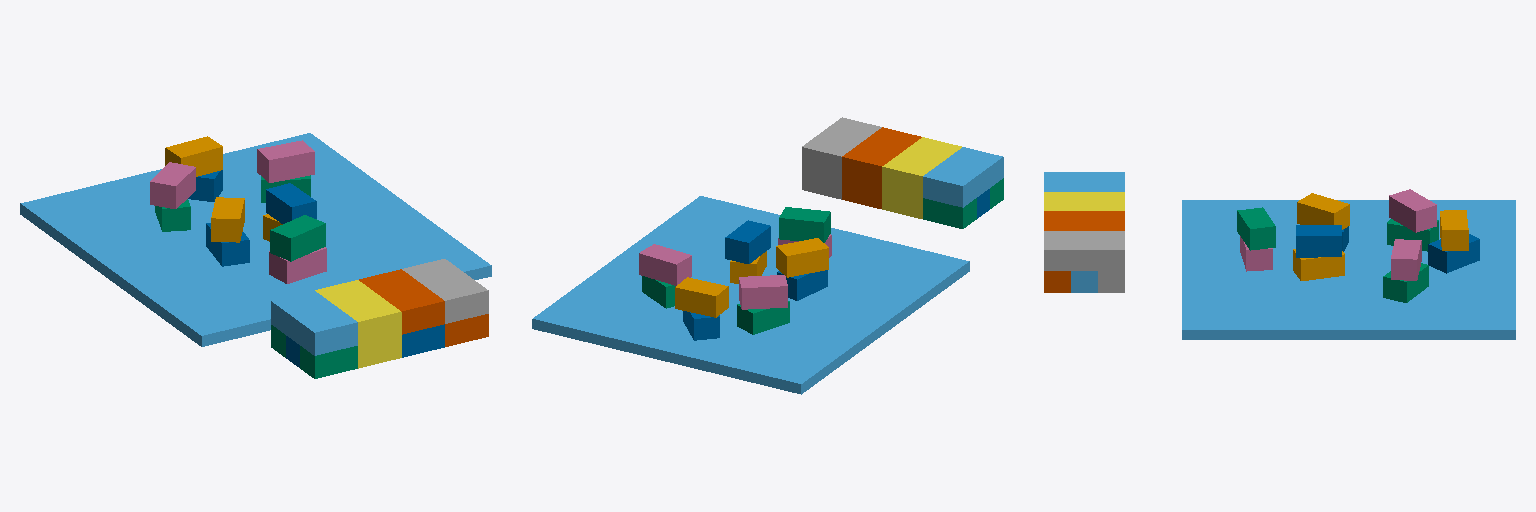
The robot description file, URDF, robot "brick_demo":
<?xml version="1.0" ?>
<!-- =================================================================================== -->
<!-- |    This document was autogenerated by xacro from brick_demo.xacro               | -->
<!-- |    EDITING THIS FILE BY HAND IS NOT RECOMMENDED                                 | -->
<!-- =================================================================================== -->
<robot name="brick_demo" xmlns:xacro="http://wiki.ros.org/xacro">
  <link name="workspace_geo_base_link"/>
  <link name="workspace_geo_pick_element_0">
    <visual>
      <geometry>
        <mesh filename="../meshes/collision/element_pick_0.obj" scale="0.001 0.001 0.001"/>
      </geometry>
    </visual>
    <collision>
      <geometry>
        <mesh filename="../meshes/collision/element_pick_0.obj" scale="0.001 0.001 0.001"/>
      </geometry>
    </collision>
  </link>
  <joint name="workspace_geo_base2pick_element_0" type="fixed">
    <parent link="workspace_geo_base_link"/>
    <child link="workspace_geo_pick_element_0"/>
    <origin rpy="0 0 0" xyz="0 0 0"/>
  </joint>
  <link name="workspace_geo_place_element_0">
    <visual>
      <geometry>
        <mesh filename="../meshes/collision/element_place_0.obj" scale="0.001 0.001 0.001"/>
      </geometry>
    </visual>
    <collision>
      <geometry>
        <mesh filename="../meshes/collision/element_place_0.obj" scale="0.001 0.001 0.001"/>
      </geometry>
    </collision>
  </link>
  <joint name="workspace_geo_base2place_element_0" type="fixed">
    <parent link="workspace_geo_base_link"/>
    <child link="workspace_geo_place_element_0"/>
    <origin rpy="0 0 0" xyz="0 0 0"/>
  </joint>
  <link name="workspace_geo_pick_element_1">
    <visual>
      <geometry>
        <mesh filename="../meshes/collision/element_pick_1.obj" scale="0.001 0.001 0.001"/>
      </geometry>
    </visual>
    <collision>
      <geometry>
        <mesh filename="../meshes/collision/element_pick_1.obj" scale="0.001 0.001 0.001"/>
      </geometry>
    </collision>
  </link>
  <joint name="workspace_geo_base2pick_element_1" type="fixed">
    <parent link="workspace_geo_base_link"/>
    <child link="workspace_geo_pick_element_1"/>
    <origin rpy="0 0 0" xyz="0 0 0"/>
  </joint>
  <link name="workspace_geo_place_element_1">
    <visual>
      <geometry>
        <mesh filename="../meshes/collision/element_place_1.obj" scale="0.001 0.001 0.001"/>
      </geometry>
    </visual>
    <collision>
      <geometry>
        <mesh filename="../meshes/collision/element_place_1.obj" scale="0.001 0.001 0.001"/>
      </geometry>
    </collision>
  </link>
  <joint name="workspace_geo_base2place_element_1" type="fixed">
    <parent link="workspace_geo_base_link"/>
    <child link="workspace_geo_place_element_1"/>
    <origin rpy="0 0 0" xyz="0 0 0"/>
  </joint>
  <link name="workspace_geo_pick_element_2">
    <visual>
      <geometry>
        <mesh filename="../meshes/collision/element_pick_2.obj" scale="0.001 0.001 0.001"/>
      </geometry>
    </visual>
    <collision>
      <geometry>
        <mesh filename="../meshes/collision/element_pick_2.obj" scale="0.001 0.001 0.001"/>
      </geometry>
    </collision>
  </link>
  <joint name="workspace_geo_base2pick_element_2" type="fixed">
    <parent link="workspace_geo_base_link"/>
    <child link="workspace_geo_pick_element_2"/>
    <origin rpy="0 0 0" xyz="0 0 0"/>
  </joint>
  <link name="workspace_geo_place_element_2">
    <visual>
      <geometry>
        <mesh filename="../meshes/collision/element_place_2.obj" scale="0.001 0.001 0.001"/>
      </geometry>
    </visual>
    <collision>
      <geometry>
        <mesh filename="../meshes/collision/element_place_2.obj" scale="0.001 0.001 0.001"/>
      </geometry>
    </collision>
  </link>
  <joint name="workspace_geo_base2place_element_2" type="fixed">
    <parent link="workspace_geo_base_link"/>
    <child link="workspace_geo_place_element_2"/>
    <origin rpy="0 0 0" xyz="0 0 0"/>
  </joint>
  <link name="workspace_geo_pick_element_3">
    <visual>
      <geometry>
        <mesh filename="../meshes/collision/element_pick_3.obj" scale="0.001 0.001 0.001"/>
      </geometry>
    </visual>
    <collision>
      <geometry>
        <mesh filename="../meshes/collision/element_pick_3.obj" scale="0.001 0.001 0.001"/>
      </geometry>
    </collision>
  </link>
  <joint name="workspace_geo_base2pick_element_3" type="fixed">
    <parent link="workspace_geo_base_link"/>
    <child link="workspace_geo_pick_element_3"/>
    <origin rpy="0 0 0" xyz="0 0 0"/>
  </joint>
  <link name="workspace_geo_place_element_3">
    <visual>
      <geometry>
        <mesh filename="../meshes/collision/element_place_3.obj" scale="0.001 0.001 0.001"/>
      </geometry>
    </visual>
    <collision>
      <geometry>
        <mesh filename="../meshes/collision/element_place_3.obj" scale="0.001 0.001 0.001"/>
      </geometry>
    </collision>
  </link>
  <joint name="workspace_geo_base2place_element_3" type="fixed">
    <parent link="workspace_geo_base_link"/>
    <child link="workspace_geo_place_element_3"/>
    <origin rpy="0 0 0" xyz="0 0 0"/>
  </joint>
  <link name="workspace_geo_pick_element_4">
    <visual>
      <geometry>
        <mesh filename="../meshes/collision/element_pick_4.obj" scale="0.001 0.001 0.001"/>
      </geometry>
    </visual>
    <collision>
      <geometry>
        <mesh filename="../meshes/collision/element_pick_4.obj" scale="0.001 0.001 0.001"/>
      </geometry>
    </collision>
  </link>
  <joint name="workspace_geo_base2pick_element_4" type="fixed">
    <parent link="workspace_geo_base_link"/>
    <child link="workspace_geo_pick_element_4"/>
    <origin rpy="0 0 0" xyz="0 0 0"/>
  </joint>
  <link name="workspace_geo_place_element_4">
    <visual>
      <geometry>
        <mesh filename="../meshes/collision/element_place_4.obj" scale="0.001 0.001 0.001"/>
      </geometry>
    </visual>
    <collision>
      <geometry>
        <mesh filename="../meshes/collision/element_place_4.obj" scale="0.001 0.001 0.001"/>
      </geometry>
    </collision>
  </link>
  <joint name="workspace_geo_base2place_element_4" type="fixed">
    <parent link="workspace_geo_base_link"/>
    <child link="workspace_geo_place_element_4"/>
    <origin rpy="0 0 0" xyz="0 0 0"/>
  </joint>
  <link name="workspace_geo_pick_element_5">
    <visual>
      <geometry>
        <mesh filename="../meshes/collision/element_pick_5.obj" scale="0.001 0.001 0.001"/>
      </geometry>
    </visual>
    <collision>
      <geometry>
        <mesh filename="../meshes/collision/element_pick_5.obj" scale="0.001 0.001 0.001"/>
      </geometry>
    </collision>
  </link>
  <joint name="workspace_geo_base2pick_element_5" type="fixed">
    <parent link="workspace_geo_base_link"/>
    <child link="workspace_geo_pick_element_5"/>
    <origin rpy="0 0 0" xyz="0 0 0"/>
  </joint>
  <link name="workspace_geo_place_element_5">
    <visual>
      <geometry>
        <mesh filename="../meshes/collision/element_place_5.obj" scale="0.001 0.001 0.001"/>
      </geometry>
    </visual>
    <collision>
      <geometry>
        <mesh filename="../meshes/collision/element_place_5.obj" scale="0.001 0.001 0.001"/>
      </geometry>
    </collision>
  </link>
  <joint name="workspace_geo_base2place_element_5" type="fixed">
    <parent link="workspace_geo_base_link"/>
    <child link="workspace_geo_place_element_5"/>
    <origin rpy="0 0 0" xyz="0 0 0"/>
  </joint>
  <link name="workspace_geo_pick_element_6">
    <visual>
      <geometry>
        <mesh filename="../meshes/collision/element_pick_6.obj" scale="0.001 0.001 0.001"/>
      </geometry>
    </visual>
    <collision>
      <geometry>
        <mesh filename="../meshes/collision/element_pick_6.obj" scale="0.001 0.001 0.001"/>
      </geometry>
    </collision>
  </link>
  <joint name="workspace_geo_base2pick_element_6" type="fixed">
    <parent link="workspace_geo_base_link"/>
    <child link="workspace_geo_pick_element_6"/>
    <origin rpy="0 0 0" xyz="0 0 0"/>
  </joint>
  <link name="workspace_geo_place_element_6">
    <visual>
      <geometry>
        <mesh filename="../meshes/collision/element_place_6.obj" scale="0.001 0.001 0.001"/>
      </geometry>
    </visual>
    <collision>
      <geometry>
        <mesh filename="../meshes/collision/element_place_6.obj" scale="0.001 0.001 0.001"/>
      </geometry>
    </collision>
  </link>
  <joint name="workspace_geo_base2place_element_6" type="fixed">
    <parent link="workspace_geo_base_link"/>
    <child link="workspace_geo_place_element_6"/>
    <origin rpy="0 0 0" xyz="0 0 0"/>
  </joint>
  <link name="workspace_geo_pick_element_7">
    <visual>
      <geometry>
        <mesh filename="../meshes/collision/element_pick_7.obj" scale="0.001 0.001 0.001"/>
      </geometry>
    </visual>
    <collision>
      <geometry>
        <mesh filename="../meshes/collision/element_pick_7.obj" scale="0.001 0.001 0.001"/>
      </geometry>
    </collision>
  </link>
  <joint name="workspace_geo_base2pick_element_7" type="fixed">
    <parent link="workspace_geo_base_link"/>
    <child link="workspace_geo_pick_element_7"/>
    <origin rpy="0 0 0" xyz="0 0 0"/>
  </joint>
  <link name="workspace_geo_place_element_7">
    <visual>
      <geometry>
        <mesh filename="../meshes/collision/element_place_7.obj" scale="0.001 0.001 0.001"/>
      </geometry>
    </visual>
    <collision>
      <geometry>
        <mesh filename="../meshes/collision/element_place_7.obj" scale="0.001 0.001 0.001"/>
      </geometry>
    </collision>
  </link>
  <joint name="workspace_geo_base2place_element_7" type="fixed">
    <parent link="workspace_geo_base_link"/>
    <child link="workspace_geo_place_element_7"/>
    <origin rpy="0 0 0" xyz="0 0 0"/>
  </joint>
  <link name="workspace_geo_pick_element_8">
    <visual>
      <geometry>
        <mesh filename="../meshes/collision/element_pick_8.obj" scale="0.001 0.001 0.001"/>
      </geometry>
    </visual>
    <collision>
      <geometry>
        <mesh filename="../meshes/collision/element_pick_8.obj" scale="0.001 0.001 0.001"/>
      </geometry>
    </collision>
  </link>
  <joint name="workspace_geo_base2pick_element_8" type="fixed">
    <parent link="workspace_geo_base_link"/>
    <child link="workspace_geo_pick_element_8"/>
    <origin rpy="0 0 0" xyz="0 0 0"/>
  </joint>
  <link name="workspace_geo_place_element_8">
    <visual>
      <geometry>
        <mesh filename="../meshes/collision/element_place_8.obj" scale="0.001 0.001 0.001"/>
      </geometry>
    </visual>
    <collision>
      <geometry>
        <mesh filename="../meshes/collision/element_place_8.obj" scale="0.001 0.001 0.001"/>
      </geometry>
    </collision>
  </link>
  <joint name="workspace_geo_base2place_element_8" type="fixed">
    <parent link="workspace_geo_base_link"/>
    <child link="workspace_geo_place_element_8"/>
    <origin rpy="0 0 0" xyz="0 0 0"/>
  </joint>
  <link name="workspace_geo_pick_element_9">
    <visual>
      <geometry>
        <mesh filename="../meshes/collision/element_pick_9.obj" scale="0.001 0.001 0.001"/>
      </geometry>
    </visual>
    <collision>
      <geometry>
        <mesh filename="../meshes/collision/element_pick_9.obj" scale="0.001 0.001 0.001"/>
      </geometry>
    </collision>
  </link>
  <joint name="workspace_geo_base2pick_element_9" type="fixed">
    <parent link="workspace_geo_base_link"/>
    <child link="workspace_geo_pick_element_9"/>
    <origin rpy="0 0 0" xyz="0 0 0"/>
  </joint>
  <link name="workspace_geo_place_element_9">
    <visual>
      <geometry>
        <mesh filename="../meshes/collision/element_place_9.obj" scale="0.001 0.001 0.001"/>
      </geometry>
    </visual>
    <collision>
      <geometry>
        <mesh filename="../meshes/collision/element_place_9.obj" scale="0.001 0.001 0.001"/>
      </geometry>
    </collision>
  </link>
  <joint name="workspace_geo_base2place_element_9" type="fixed">
    <parent link="workspace_geo_base_link"/>
    <child link="workspace_geo_place_element_9"/>
    <origin rpy="0 0 0" xyz="0 0 0"/>
  </joint>
  <link name="workspace_geo_pick_element_10">
    <visual>
      <geometry>
        <mesh filename="../meshes/collision/element_pick_10.obj" scale="0.001 0.001 0.001"/>
      </geometry>
    </visual>
    <collision>
      <geometry>
        <mesh filename="../meshes/collision/element_pick_10.obj" scale="0.001 0.001 0.001"/>
      </geometry>
    </collision>
  </link>
  <joint name="workspace_geo_base2pick_element_10" type="fixed">
    <parent link="workspace_geo_base_link"/>
    <child link="workspace_geo_pick_element_10"/>
    <origin rpy="0 0 0" xyz="0 0 0"/>
  </joint>
  <link name="workspace_geo_place_element_10">
    <visual>
      <geometry>
        <mesh filename="../meshes/collision/element_place_10.obj" scale="0.001 0.001 0.001"/>
      </geometry>
    </visual>
    <collision>
      <geometry>
        <mesh filename="../meshes/collision/element_place_10.obj" scale="0.001 0.001 0.001"/>
      </geometry>
    </collision>
  </link>
  <joint name="workspace_geo_base2place_element_10" type="fixed">
    <parent link="workspace_geo_base_link"/>
    <child link="workspace_geo_place_element_10"/>
    <origin rpy="0 0 0" xyz="0 0 0"/>
  </joint>
  <link name="workspace_geo_pick_element_11">
    <visual>
      <geometry>
        <mesh filename="../meshes/collision/element_pick_11.obj" scale="0.001 0.001 0.001"/>
      </geometry>
    </visual>
    <collision>
      <geometry>
        <mesh filename="../meshes/collision/element_pick_11.obj" scale="0.001 0.001 0.001"/>
      </geometry>
    </collision>
  </link>
  <joint name="workspace_geo_base2pick_element_11" type="fixed">
    <parent link="workspace_geo_base_link"/>
    <child link="workspace_geo_pick_element_11"/>
    <origin rpy="0 0 0" xyz="0 0 0"/>
  </joint>
  <link name="workspace_geo_place_element_11">
    <visual>
      <geometry>
        <mesh filename="../meshes/collision/element_place_11.obj" scale="0.001 0.001 0.001"/>
      </geometry>
    </visual>
    <collision>
      <geometry>
        <mesh filename="../meshes/collision/element_place_11.obj" scale="0.001 0.001 0.001"/>
      </geometry>
    </collision>
  </link>
  <joint name="workspace_geo_base2place_element_11" type="fixed">
    <parent link="workspace_geo_base_link"/>
    <child link="workspace_geo_place_element_11"/>
    <origin rpy="0 0 0" xyz="0 0 0"/>
  </joint>
  <link name="workspace_geo_pick_support_object_0">
    <visual>
      <geometry>
        <mesh filename="../meshes/collision/support_place_table.obj" scale="0.001 0.001 0.001"/>
      </geometry>
    </visual>
    <collision>
      <geometry>
        <mesh filename="../meshes/collision/support_place_table.obj" scale="0.001 0.001 0.001"/>
      </geometry>
    </collision>
  </link>
  <joint name="workspace_geo_base2pick_support_object_0" type="fixed">
    <parent link="workspace_geo_base_link"/>
    <child link="workspace_geo_pick_support_object_0"/>
    <origin rpy="0 0 0" xyz="0 0 0"/>
  </joint>
  <link name="workspace_geo_place_support_object_0">
    <visual>
      <geometry>
        <mesh filename="../meshes/collision/pick_left_over_bricks_0.obj" scale="0.001 0.001 0.001"/>
      </geometry>
    </visual>
    <collision>
      <geometry>
        <mesh filename="../meshes/collision/pick_left_over_bricks_0.obj" scale="0.001 0.001 0.001"/>
      </geometry>
    </collision>
  </link>
  <joint name="workspace_geo_base2place_support_object_0" type="fixed">
    <parent link="workspace_geo_base_link"/>
    <child link="workspace_geo_place_support_object_0"/>
    <origin rpy="0 0 0" xyz="0 0 0"/>
  </joint>
  <link name="workspace_geo_place_support_object_1">
    <visual>
      <geometry>
        <mesh filename="../meshes/collision/pick_left_over_bricks_1.obj" scale="0.001 0.001 0.001"/>
      </geometry>
    </visual>
    <collision>
      <geometry>
        <mesh filename="../meshes/collision/pick_left_over_bricks_1.obj" scale="0.001 0.001 0.001"/>
      </geometry>
    </collision>
  </link>
  <joint name="workspace_geo_base2place_support_object_1" type="fixed">
    <parent link="workspace_geo_base_link"/>
    <child link="workspace_geo_place_support_object_1"/>
    <origin rpy="0 0 0" xyz="0 0 0"/>
  </joint>
  <link name="workspace_geo_place_support_object_2">
    <visual>
      <geometry>
        <mesh filename="../meshes/collision/pick_left_over_bricks_4.obj" scale="0.001 0.001 0.001"/>
      </geometry>
    </visual>
    <collision>
      <geometry>
        <mesh filename="../meshes/collision/pick_left_over_bricks_4.obj" scale="0.001 0.001 0.001"/>
      </geometry>
    </collision>
  </link>
  <joint name="workspace_geo_base2place_support_object_2" type="fixed">
    <parent link="workspace_geo_base_link"/>
    <child link="workspace_geo_place_support_object_2"/>
    <origin rpy="0 0 0" xyz="0 0 0"/>
  </joint>
  <link name="workspace_geo_place_support_object_3">
    <visual>
      <geometry>
        <mesh filename="../meshes/collision/pick_left_over_bricks_2.obj" scale="0.001 0.001 0.001"/>
      </geometry>
    </visual>
    <collision>
      <geometry>
        <mesh filename="../meshes/collision/pick_left_over_bricks_2.obj" scale="0.001 0.001 0.001"/>
      </geometry>
    </collision>
  </link>
  <joint name="workspace_geo_base2place_support_object_3" type="fixed">
    <parent link="workspace_geo_base_link"/>
    <child link="workspace_geo_place_support_object_3"/>
    <origin rpy="0 0 0" xyz="0 0 0"/>
  </joint>
  <link name="workspace_geo_place_support_object_4">
    <visual>
      <geometry>
        <mesh filename="../meshes/collision/pick_left_over_bricks_5.obj" scale="0.001 0.001 0.001"/>
      </geometry>
    </visual>
    <collision>
      <geometry>
        <mesh filename="../meshes/collision/pick_left_over_bricks_5.obj" scale="0.001 0.001 0.001"/>
      </geometry>
    </collision>
  </link>
  <joint name="workspace_geo_base2place_support_object_4" type="fixed">
    <parent link="workspace_geo_base_link"/>
    <child link="workspace_geo_place_support_object_4"/>
    <origin rpy="0 0 0" xyz="0 0 0"/>
  </joint>
  <link name="workspace_geo_place_support_object_5">
    <visual>
      <geometry>
        <mesh filename="../meshes/collision/pick_left_over_bricks_3.obj" scale="0.001 0.001 0.001"/>
      </geometry>
    </visual>
    <collision>
      <geometry>
        <mesh filename="../meshes/collision/pick_left_over_bricks_3.obj" scale="0.001 0.001 0.001"/>
      </geometry>
    </collision>
  </link>
  <joint name="workspace_geo_base2place_support_object_5" type="fixed">
    <parent link="workspace_geo_base_link"/>
    <child link="workspace_geo_place_support_object_5"/>
    <origin rpy="0 0 0" xyz="0 0 0"/>
  </joint>
  <link name="workspace_geo_place_support_object_6">
    <visual>
      <geometry>
        <mesh filename="../meshes/collision/pick_left_over_bricks_6.obj" scale="0.001 0.001 0.001"/>
      </geometry>
    </visual>
    <collision>
      <geometry>
        <mesh filename="../meshes/collision/pick_left_over_bricks_6.obj" scale="0.001 0.001 0.001"/>
      </geometry>
    </collision>
  </link>
  <joint name="workspace_geo_base2place_support_object_6" type="fixed">
    <parent link="workspace_geo_base_link"/>
    <child link="workspace_geo_place_support_object_6"/>
    <origin rpy="0 0 0" xyz="0 0 0"/>
  </joint>
  <link name="workspace_geo_place_support_object_7">
    <visual>
      <geometry>
        <mesh filename="../meshes/collision/pick_left_over_bricks_7.obj" scale="0.001 0.001 0.001"/>
      </geometry>
    </visual>
    <collision>
      <geometry>
        <mesh filename="../meshes/collision/pick_left_over_bricks_7.obj" scale="0.001 0.001 0.001"/>
      </geometry>
    </collision>
  </link>
  <joint name="workspace_geo_base2place_support_object_7" type="fixed">
    <parent link="workspace_geo_base_link"/>
    <child link="workspace_geo_place_support_object_7"/>
    <origin rpy="0 0 0" xyz="0 0 0"/>
  </joint>
  <link name="workspace_geo_place_support_object_8">
    <visual>
      <geometry>
        <mesh filename="../meshes/collision/pick_left_over_bricks_8.obj" scale="0.001 0.001 0.001"/>
      </geometry>
    </visual>
    <collision>
      <geometry>
        <mesh filename="../meshes/collision/pick_left_over_bricks_8.obj" scale="0.001 0.001 0.001"/>
      </geometry>
    </collision>
  </link>
  <joint name="workspace_geo_base2place_support_object_8" type="fixed">
    <parent link="workspace_geo_base_link"/>
    <child link="workspace_geo_place_support_object_8"/>
    <origin rpy="0 0 0" xyz="0 0 0"/>
  </joint>
  <link name="workspace_geo_place_support_object_9">
    <visual>
      <geometry>
        <mesh filename="../meshes/collision/pick_left_over_bricks_9.obj" scale="0.001 0.001 0.001"/>
      </geometry>
    </visual>
    <collision>
      <geometry>
        <mesh filename="../meshes/collision/pick_left_over_bricks_9.obj" scale="0.001 0.001 0.001"/>
      </geometry>
    </collision>
  </link>
  <joint name="workspace_geo_base2place_support_object_9" type="fixed">
    <parent link="workspace_geo_base_link"/>
    <child link="workspace_geo_place_support_object_9"/>
    <origin rpy="0 0 0" xyz="0 0 0"/>
  </joint>
  <link name="workspace_geo_place_support_object_10">
    <visual>
      <geometry>
        <mesh filename="../meshes/collision/pick_left_over_bricks_10.obj" scale="0.001 0.001 0.001"/>
      </geometry>
    </visual>
    <collision>
      <geometry>
        <mesh filename="../meshes/collision/pick_left_over_bricks_10.obj" scale="0.001 0.001 0.001"/>
      </geometry>
    </collision>
  </link>
  <joint name="workspace_geo_base2place_support_object_10" type="fixed">
    <parent link="workspace_geo_base_link"/>
    <child link="workspace_geo_place_support_object_10"/>
    <origin rpy="0 0 0" xyz="0 0 0"/>
  </joint>
  <link name="workspace_geo_place_support_object_11">
    <visual>
      <geometry>
        <mesh filename="../meshes/collision/pick_left_over_bricks_11.obj" scale="0.001 0.001 0.001"/>
      </geometry>
    </visual>
    <collision>
      <geometry>
        <mesh filename="../meshes/collision/pick_left_over_bricks_11.obj" scale="0.001 0.001 0.001"/>
      </geometry>
    </collision>
  </link>
  <joint name="workspace_geo_base2place_support_object_11" type="fixed">
    <parent link="workspace_geo_base_link"/>
    <child link="workspace_geo_place_support_object_11"/>
    <origin rpy="0 0 0" xyz="0 0 0"/>
  </joint>
  <link name="base_link"/>
  <joint name="world2workspace_geo" type="fixed">
    <parent link="base_link"/>
    <child link="workspace_geo_base_link"/>
    <origin rpy="0 0 0" xyz="0 0 0"/>
  </joint>
</robot>

--- What the picture shows (computed from the rendered views, not written in the file) ---
The picture shows the robot from 3 angles, left to right: view 1: azimuth 30°, elevation 25°; view 2: azimuth 150°, elevation 25°; view 3: azimuth 270°, elevation 25°; orthographic projection.
Robot: brick_demo — 39 links, 38 joints (38 fixed); root link base_link; default pose: all joints at 0.
Links seen in each view (by area): view 1: workspace_geo_pick_support_object_0, workspace_geo_pick_element_8, workspace_geo_place_element_10, workspace_geo_place_element_8, workspace_geo_place_element_6, workspace_geo_pick_element_11, workspace_geo_pick_element_9, workspace_geo_pick_element_10, workspace_geo_place_element_11, workspace_geo_place_element_9, workspace_geo_place_element_7, workspace_geo_place_element_2 (+15 smaller); view 2: workspace_geo_pick_support_object_0, workspace_geo_place_element_11, workspace_geo_pick_element_0, workspace_geo_place_element_7, workspace_geo_place_element_10, workspace_geo_place_element_6, workspace_geo_place_element_8, workspace_geo_place_element_9, workspace_geo_pick_element_1, workspace_geo_pick_element_3, workspace_geo_pick_element_2, workspace_geo_place_support_object_0 (+16 smaller); view 3: workspace_geo_pick_support_object_0, workspace_geo_place_element_6, workspace_geo_place_element_9, workspace_geo_place_element_7, workspace_geo_place_element_8, workspace_geo_place_element_10, workspace_geo_place_element_5, workspace_geo_place_element_11, workspace_geo_place_element_3, workspace_geo_pick_element_3, workspace_geo_pick_element_7, workspace_geo_pick_element_11 (+12 smaller).
Boxes of the visible links, <box> form: workspace_geo_pick_support_object_0: <box>20,133,491,346</box>; workspace_geo_pick_element_8: <box>300,312,357,355</box>; workspace_geo_place_element_10: <box>257,140,314,182</box>; workspace_geo_place_element_8: <box>270,215,325,261</box>; workspace_geo_place_element_6: <box>150,162,195,208</box>; workspace_geo_pick_element_11: <box>431,280,488,323</box>; workspace_geo_pick_element_9: <box>344,301,401,344</box>; workspace_geo_pick_element_10: <box>388,290,444,334</box>; workspace_geo_place_element_11: <box>165,136,222,176</box>; workspace_geo_place_element_9: <box>266,183,316,223</box>; workspace_geo_place_element_7: <box>211,197,244,242</box>; workspace_geo_place_element_2: <box>269,247,326,283</box>; workspace_geo_pick_support_object_0: <box>532,196,969,394</box>; workspace_geo_place_element_11: <box>675,277,728,317</box>; workspace_geo_pick_element_0: <box>923,167,976,207</box>; workspace_geo_place_element_7: <box>776,238,828,277</box>; workspace_geo_place_element_10: <box>639,244,691,285</box>; workspace_geo_place_element_6: <box>739,275,787,309</box>; workspace_geo_place_element_8: <box>779,207,830,242</box>; workspace_geo_place_element_9: <box>725,220,770,263</box>; workspace_geo_pick_element_1: <box>882,157,935,197</box>; workspace_geo_pick_element_3: <box>802,137,854,177</box>; workspace_geo_pick_element_2: <box>842,147,894,187</box>; workspace_geo_place_support_object_0: <box>923,198,976,228</box>; workspace_geo_pick_support_object_0: <box>1182,200,1515,339</box>; workspace_geo_place_element_6: <box>1389,189,1436,232</box>; workspace_geo_place_element_9: <box>1296,225,1341,257</box>; workspace_geo_place_element_7: <box>1297,193,1349,229</box>; workspace_geo_place_element_8: <box>1237,207,1275,250</box>; workspace_geo_place_element_10: <box>1391,239,1421,280</box>; workspace_geo_place_element_5: <box>1428,234,1479,273</box>; workspace_geo_place_element_11: <box>1440,210,1468,250</box>; workspace_geo_place_element_3: <box>1293,249,1344,280</box>; workspace_geo_pick_element_3: <box>1098,231,1124,270</box>; workspace_geo_pick_element_7: <box>1071,231,1097,270</box>; workspace_geo_pick_element_11: <box>1044,231,1070,270</box>.
Size in the robot's own frame: 0.6796 by 1.04 by 0.134 metres.
Meshes: 37 distinct files referenced, 37 mesh visuals loaded (37 OBJ).